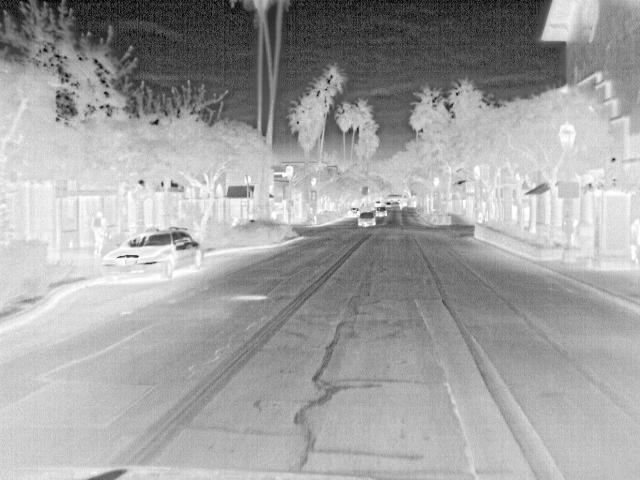car: (100, 230, 204, 281), (357, 211, 377, 228), (346, 206, 363, 220), (373, 206, 387, 218)
person: (91, 210, 107, 257), (627, 214, 639, 262)
